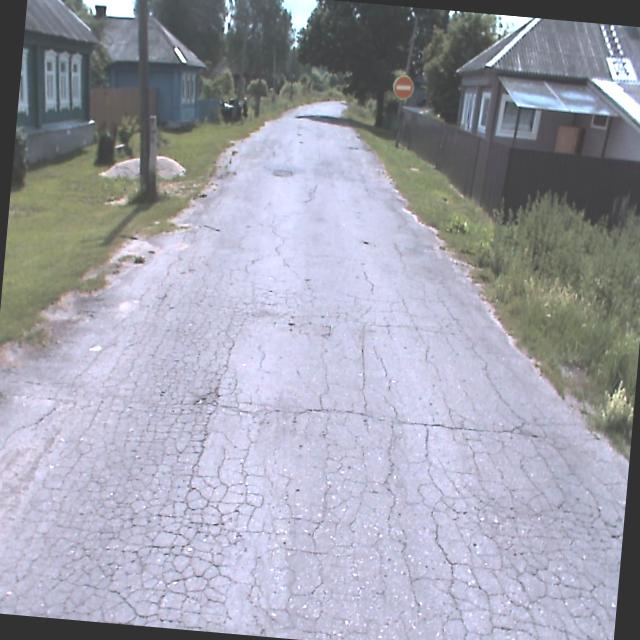road: (0, 100, 627, 640)
